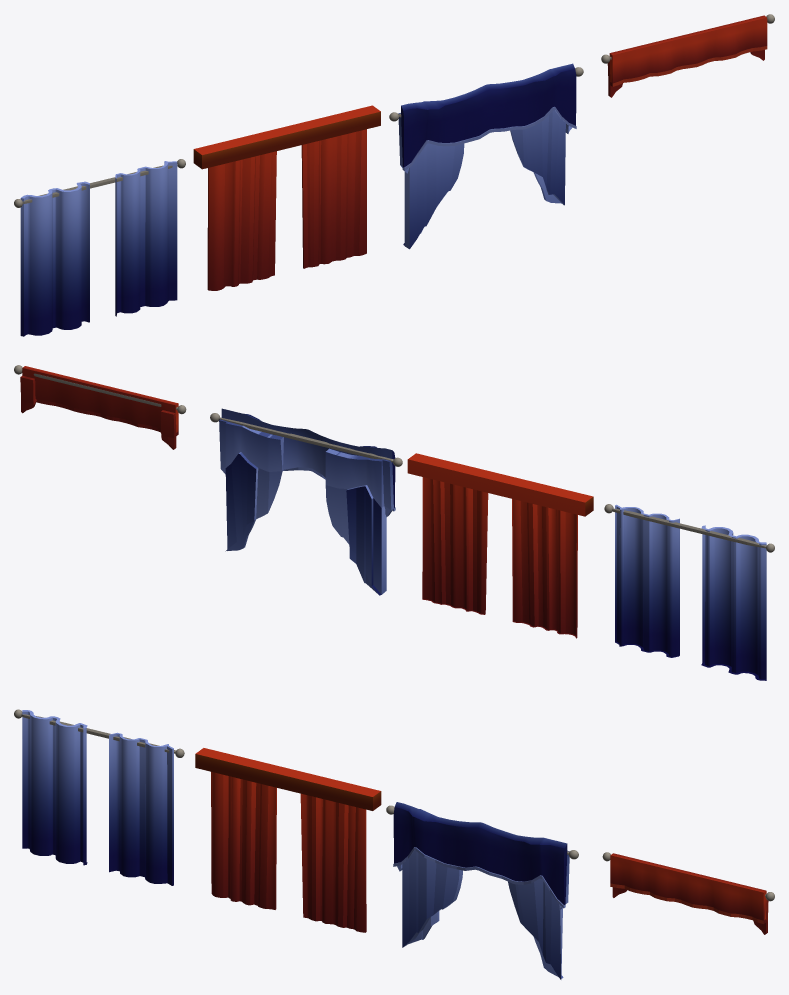
File: Verhot.fbx
The picture shows the model from 3 angles, top to bottom: view 1: azimuth 30°, elevation 25°; view 2: azimuth 150°, elevation 25°; view 3: azimuth 330°, elevation 25°; orthographic projection.
Visible parts, largest first — view 1: cornices_verho, Normal_verho, swag_verho, Valance_verho; view 2: cornices_verho, Normal_verho, swag_verho, Valance_verho; view 3: cornices_verho, Normal_verho, swag_verho, Valance_verho.
Part boxes in pixels (box(x1,y1,x2,y2)): cornices_verho: box(193, 105, 380, 290); Normal_verho: box(14, 159, 185, 336); swag_verho: box(389, 63, 583, 249); Valance_verho: box(601, 14, 774, 97); cornices_verho: box(407, 453, 593, 638); Normal_verho: box(604, 504, 774, 680); swag_verho: box(210, 408, 402, 595); Valance_verho: box(14, 365, 186, 449); cornices_verho: box(195, 748, 381, 932); Normal_verho: box(14, 709, 184, 885); swag_verho: box(386, 802, 578, 979); Valance_verho: box(602, 852, 774, 934).
Bounding box in the file's own units: 11.34 × 2.07 × 0.3163.
1 material, 1 textured.
